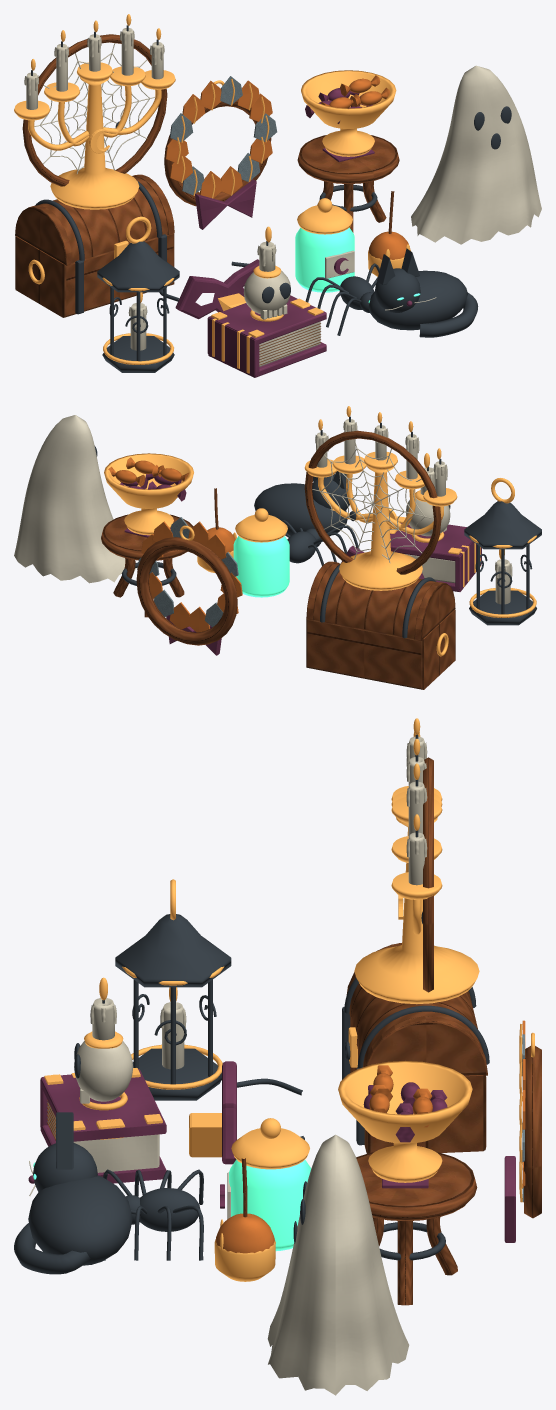
File: hollowwick-halloween-hollowwick-familiar-parlour-a9e9817b__21660.glb
3 views of the same model, one above another, from view 1: azimuth 30°, elevation 25°; view 2: azimuth 150°, elevation 25°; view 3: azimuth 270°, elevation 25° (orthographic). The views are drawn at different scales.
Parts seen in each view (by area): view 1: 010-wandering-sheet-ghost/0, 000-domed-relic-chest/0, 001-five-arm-candelabrum/0, 009-curled-familiar-cat/0, 011-hex-candle-lantern/0, 007-clasped-ritual-grimoire/0, 003-footed-candy-bowl/0, 002-turned-witch-stool/0, 014-autumn-witch-wreath/3, 001-five-arm-candelabrum/1, 004-lidded-sweet-jar/0, 013-round-cobweb-frame/0 (+19 smaller); view 2: 000-domed-relic-chest/0, 010-wandering-sheet-ghost/0, 001-five-arm-candelabrum/0, 011-hex-candle-lantern/0, 014-autumn-witch-wreath/0, 003-footed-candy-bowl/0, 009-curled-familiar-cat/0, 013-round-cobweb-frame/0, 004-lidded-sweet-jar/0, 014-autumn-witch-wreath/3, 007-clasped-ritual-grimoire/0, 002-turned-witch-stool/0 (+14 smaller); view 3: 010-wandering-sheet-ghost/0, 009-curled-familiar-cat/0, 000-domed-relic-chest/0, 011-hex-candle-lantern/0, 001-five-arm-candelabrum/0, 003-footed-candy-bowl/0, 002-turned-witch-stool/0, 007-clasped-ritual-grimoire/0, 004-lidded-sweet-jar/0, 012-long-legged-spider/0, 008-skull-votive/0, 014-autumn-witch-wreath/0 (+15 smaller).
Boxes of the visible parts, x1,y1,x2,y2 form: 010-wandering-sheet-ghost/0: (411, 65, 541, 244); 000-domed-relic-chest/0: (15, 174, 174, 317); 001-five-arm-candelabrum/0: (14, 14, 175, 209); 009-curled-familiar-cat/0: (368, 248, 478, 337); 011-hex-candle-lantern/0: (97, 241, 179, 372); 007-clasped-ritual-grimoire/0: (207, 295, 326, 377); 003-footed-candy-bowl/0: (301, 70, 396, 156); 002-turned-witch-stool/0: (297, 135, 399, 232); 014-autumn-witch-wreath/3: (165, 80, 272, 198); 001-five-arm-candelabrum/1: (24, 28, 164, 109); 004-lidded-sweet-jar/0: (295, 227, 354, 292); 013-round-cobweb-frame/0: (22, 34, 167, 186); 000-domed-relic-chest/0: (306, 561, 455, 689); 010-wandering-sheet-ghost/0: (14, 415, 136, 583); 001-five-arm-candelabrum/0: (304, 406, 457, 590); 011-hex-candle-lantern/0: (464, 501, 541, 625); 014-autumn-witch-wreath/0: (136, 537, 237, 645); 003-footed-candy-bowl/0: (104, 453, 193, 535); 009-curled-familiar-cat/0: (254, 471, 349, 536); 013-round-cobweb-frame/0: (304, 430, 441, 574); 004-lidded-sweet-jar/0: (233, 536, 289, 597); 014-autumn-witch-wreath/3: (141, 521, 242, 632); 007-clasped-ritual-grimoire/0: (390, 523, 481, 591); 002-turned-witch-stool/0: (101, 514, 193, 617); 010-wandering-sheet-ghost/0: (267, 1134, 409, 1395); 009-curled-familiar-cat/0: (14, 1112, 132, 1274); 000-domed-relic-chest/0: (346, 943, 487, 1153); 011-hex-candle-lantern/0: (115, 914, 231, 1100); 001-five-arm-candelabrum/0: (354, 718, 479, 1004); 003-footed-candy-bowl/0: (338, 1060, 472, 1182); 002-turned-witch-stool/0: (356, 1152, 477, 1305); 007-clasped-ritual-grimoire/0: (40, 1068, 166, 1183); 004-lidded-sweet-jar/0: (229, 1159, 311, 1251); 012-long-legged-spider/0: (103, 1169, 203, 1260); 008-skull-votive/0: (74, 998, 133, 1103); 014-autumn-witch-wreath/0: (524, 1046, 541, 1218).
Size of the model in its own units: 3.44 by 1.78 by 2.28.
8 materials, 5 textured.
